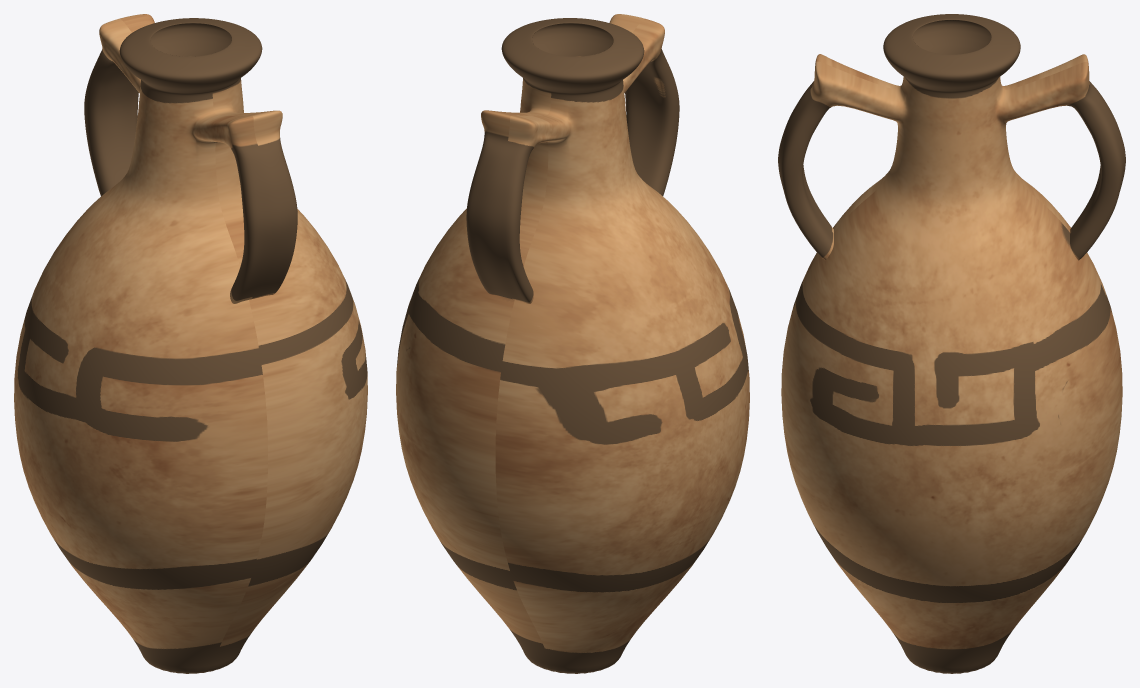
Rendered from jar2.fbx.
3 views of the same model, side by side, from view 1: azimuth 30°, elevation 25°; view 2: azimuth 150°, elevation 25°; view 3: azimuth 270°, elevation 25° (orthographic).
Visible parts, largest first — view 1: Jard_2; view 2: Jard_2; view 3: Jard_2.
Part boxes in pixels (<box>): Jard_2: <box>14,14,367,673</box>; Jard_2: <box>396,14,749,673</box>; Jard_2: <box>778,14,1125,673</box>.
Size of the model in its own units: 35.75 by 68.1 by 34.56.
1 material, 1 textured.
